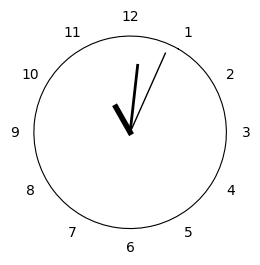12: (121, 9, 139, 22)
circle: (33, 36, 227, 228)
hours: (111, 103, 132, 135)
minutes: (130, 64, 139, 129)
seconds: (133, 52, 166, 125)
